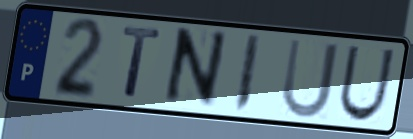2: (52, 15, 105, 102)
I: (230, 32, 263, 116)
N: (158, 25, 230, 111)
T: (121, 24, 165, 103)
U: (279, 36, 342, 121), (336, 42, 398, 124)
